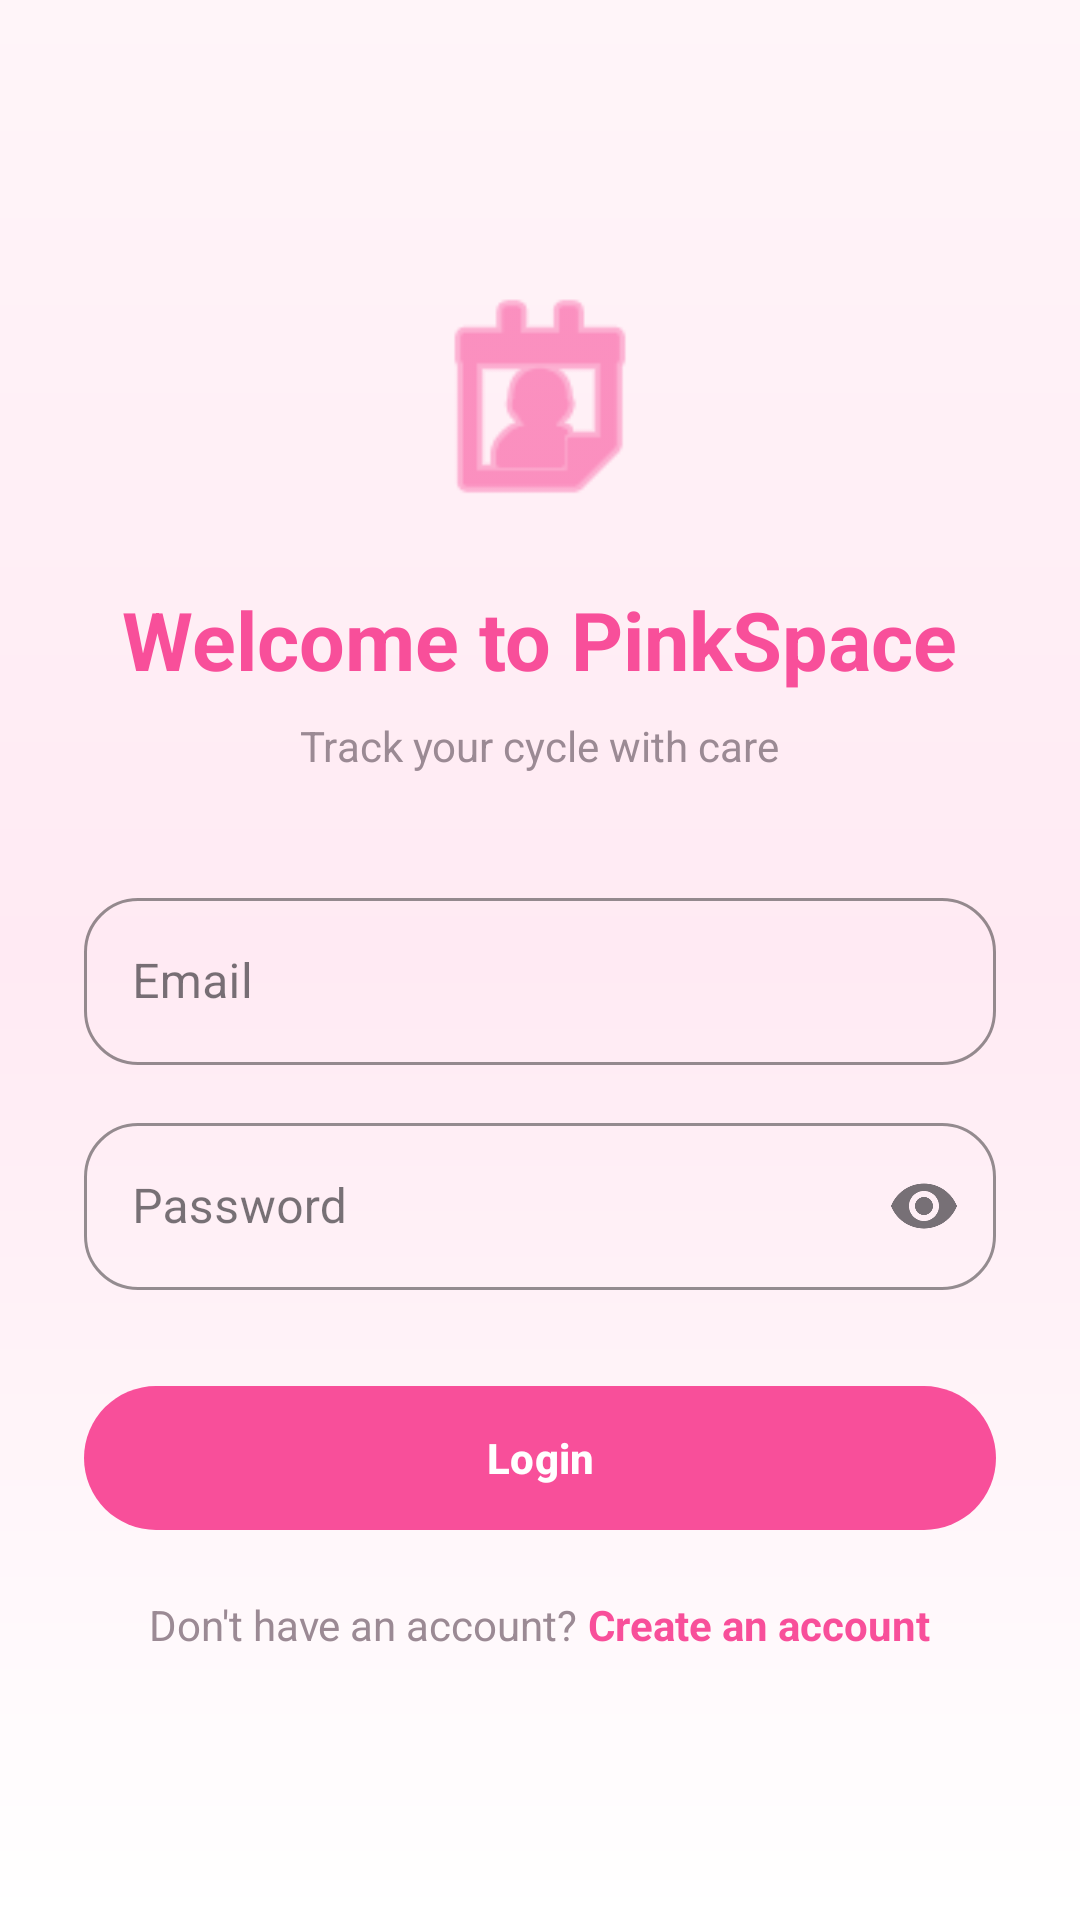

Icons on this 1080w x 1920h Android screen, each with the point to tap as (x=x, y=y):
calendar: (x=540, y=396)
